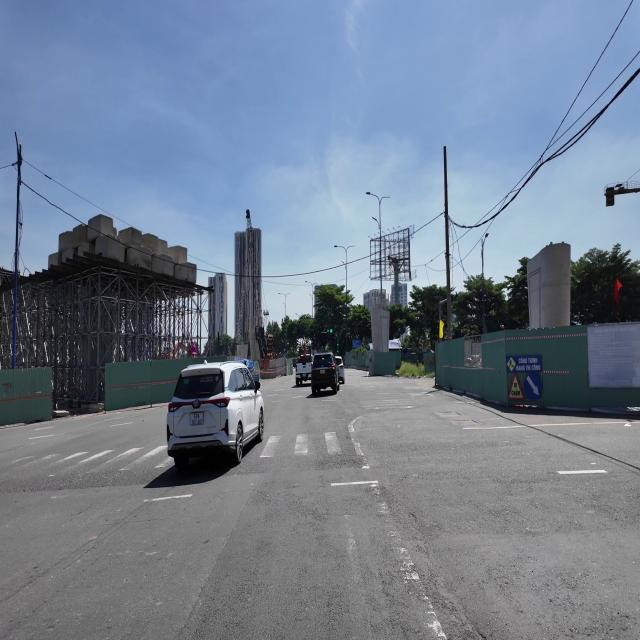car: (167, 362, 263, 470), (311, 352, 340, 394), (293, 354, 318, 388), (335, 356, 344, 384)
